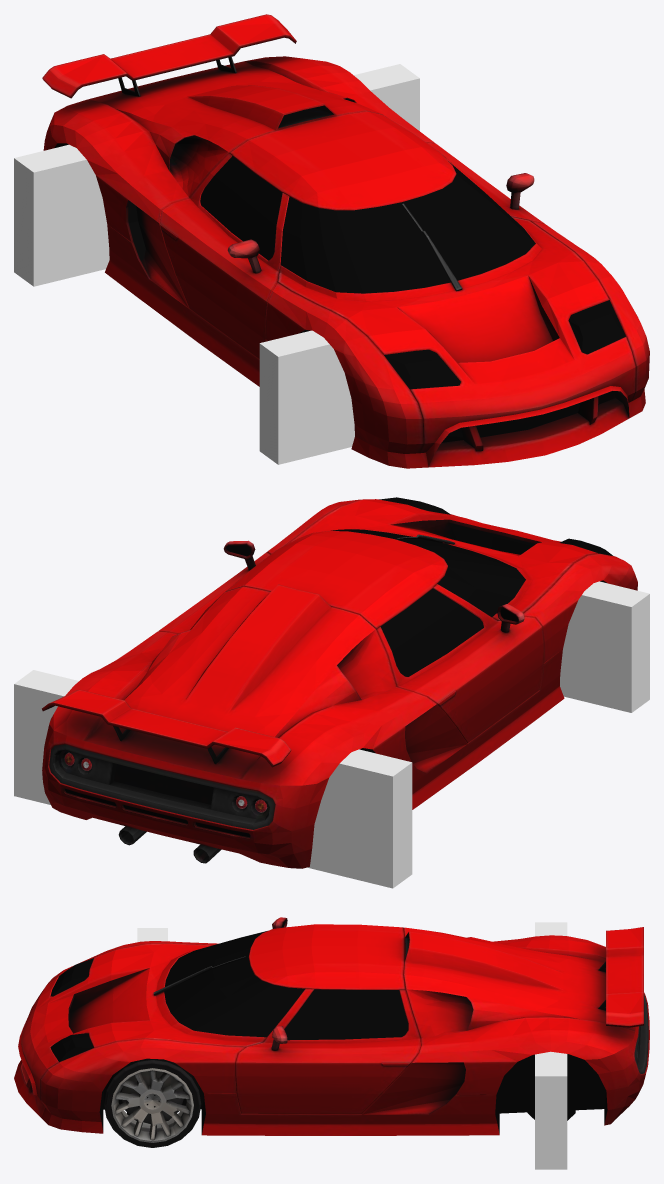
Rendered from sport.glb.
The picture shows the model from 3 angles, top to bottom: view 1: azimuth 30°, elevation 25°; view 2: azimuth 150°, elevation 25°; view 3: azimuth 270°, elevation 25°; orthographic projection. The views are drawn at different scales.
Parts seen in each view (by area): view 1: body, wheelBackRight, wheelFrontRight, wheelBackLeft; view 2: body, wheelBackRight, wheelFrontRight, wheelBackLeft; view 3: body, wheelFrontLeft, wheelBackLeft, wheelBackRight, wheelFrontRight.
Boxes of the visible parts, <box> form: body: <box>42,14,649,468</box>; wheelBackRight: <box>14,144,109,286</box>; wheelFrontRight: <box>259,330,354,464</box>; wheelBackLeft: <box>354,64,419,130</box>; body: <box>42,497,637,868</box>; wheelBackRight: <box>307,749,412,888</box>; wheelFrontRight: <box>560,581,649,712</box>; wheelBackLeft: <box>14,670,78,804</box>; body: <box>14,917,649,1135</box>; wheelFrontLeft: <box>104,1058,201,1147</box>; wheelBackLeft: <box>535,1051,567,1169</box>; wheelBackRight: <box>535,922,567,936</box>; wheelFrontRight: <box>137,928,167,942</box>.
Size of the model in its own units: 2.24 by 1.04 by 3.91.
5 materials, 3 textured.
